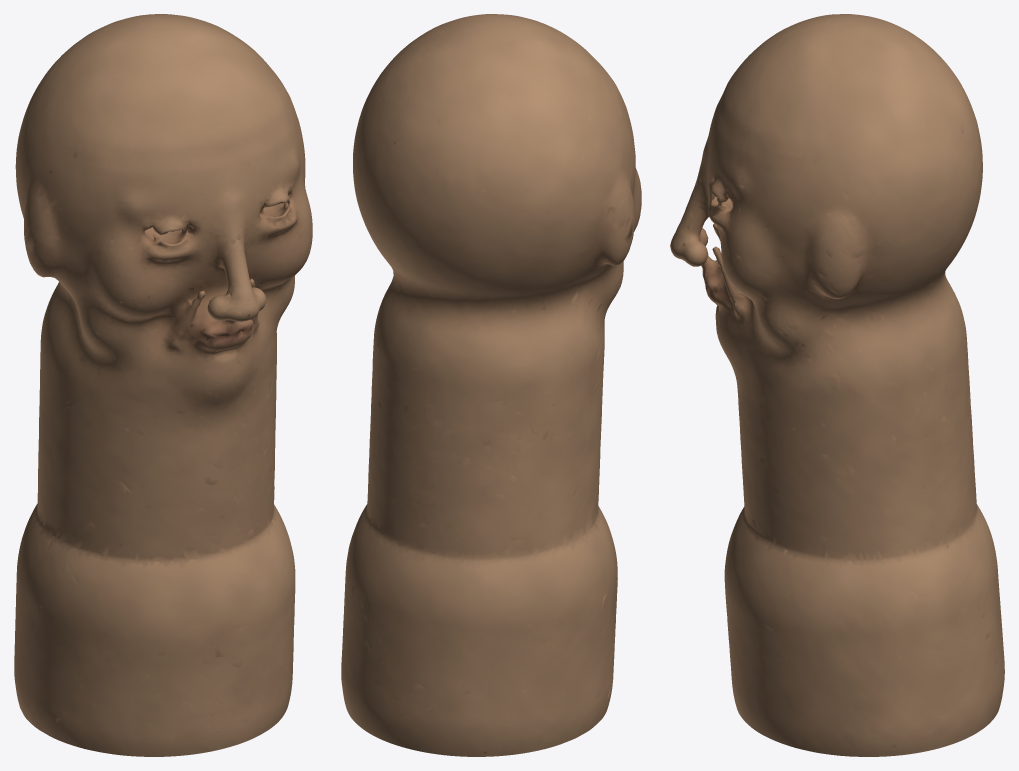
The model's file is tarik_skin.glb.
3 views of the same model, side by side, from view 1: azimuth 30°, elevation 25°; view 2: azimuth 150°, elevation 25°; view 3: azimuth 270°, elevation 25° (orthographic). The views are drawn at different scales.
Parts seen in each view (by area): view 1: geometry_0; view 2: geometry_0; view 3: geometry_0.
Boxes of the visible parts, x1,y1,x2,y2 form: geometry_0: (14,14,312,756); geometry_0: (341,14,641,756); geometry_0: (670,14,1004,756).
Bounding box in the file's own units: 0.1804 × 0.4363 × 0.1972.
